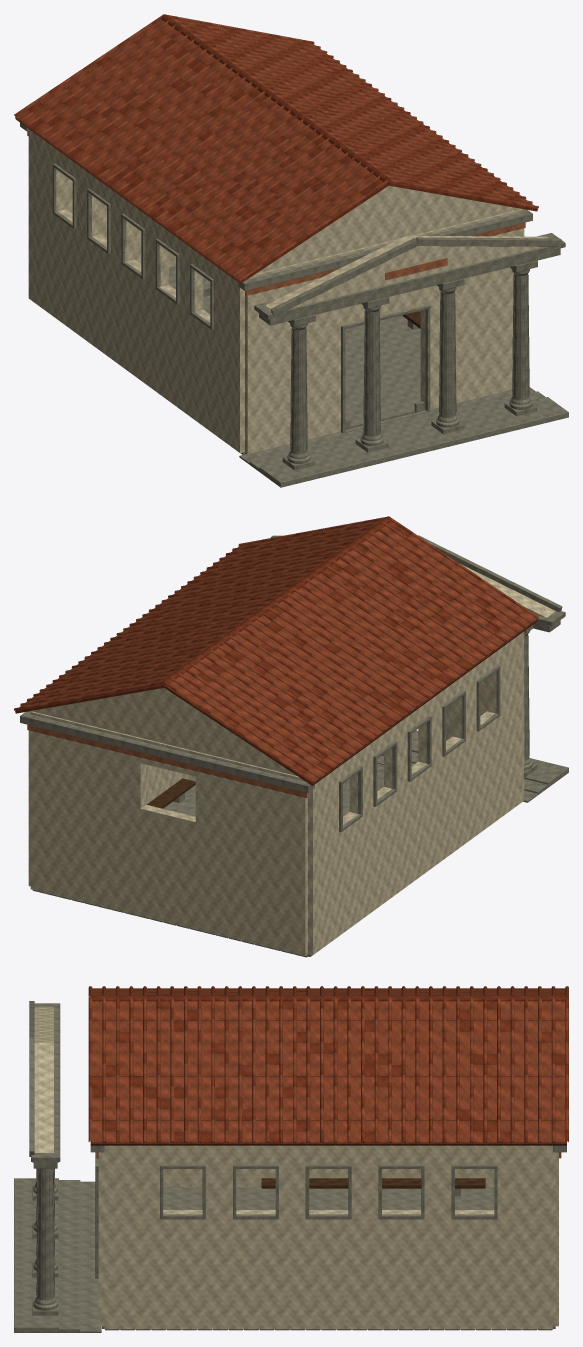
Rendered from basilica_lod0.glb.
3 views of the same model, one above another, from view 1: azimuth 30°, elevation 25°; view 2: azimuth 150°, elevation 25°; view 3: azimuth 270°, elevation 25° (orthographic). The views are drawn at different scales.
Parts seen in each view (by area): view 1: basilica_lod0; view 2: basilica_lod0; view 3: basilica_lod0.
Part boxes in pixels (left/top/right/bottom): basilica_lod0: left=14, top=14, right=568, bottom=487; basilica_lod0: left=14, top=516, right=568, bottom=957; basilica_lod0: left=14, top=986, right=568, bottom=1332.
Size of the model in its own units: 13.08 by 10.32 by 19.8.
Materials: 7 (7 with a texture image).
